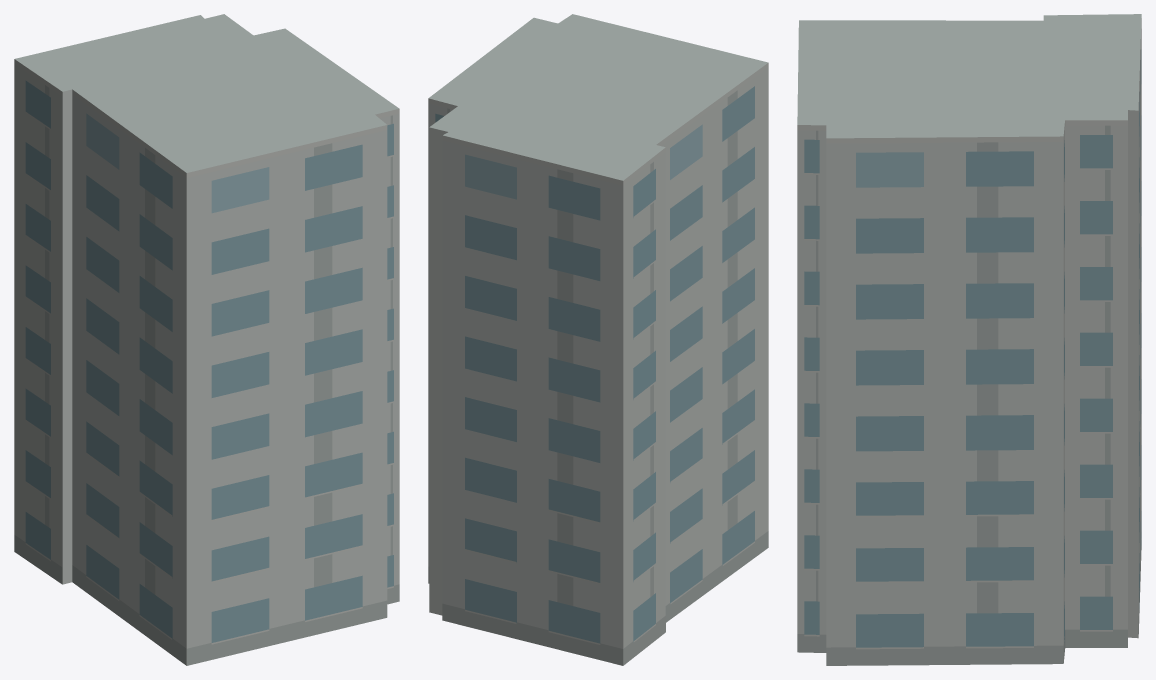
File: survey-upis-32457835.glb
The picture shows the model from 3 angles, left to right: view 1: azimuth 30°, elevation 25°; view 2: azimuth 150°, elevation 25°; view 3: azimuth 270°, elevation 25°; orthographic projection. The views are drawn at different scales.
Parts seen in each view (by area): view 1: survey-upis-32457835.tmp; view 2: survey-upis-32457835.tmp; view 3: survey-upis-32457835.tmp.
Part boxes in pixels (x1,y1,x2,y2): survey-upis-32457835.tmp: (14, 14, 399, 665); survey-upis-32457835.tmp: (428, 14, 768, 665); survey-upis-32457835.tmp: (797, 14, 1141, 665).
Bounding box in the file's own units: 12.04 × 23.79 × 14.08.
